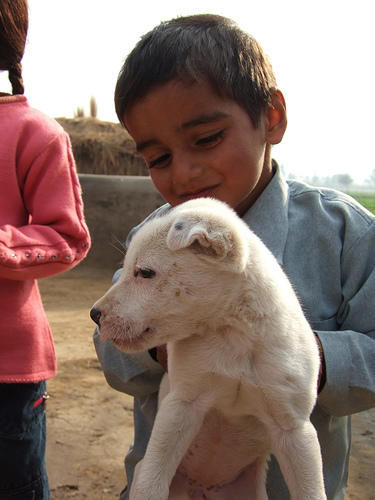without_mask: (120, 70, 287, 222)
